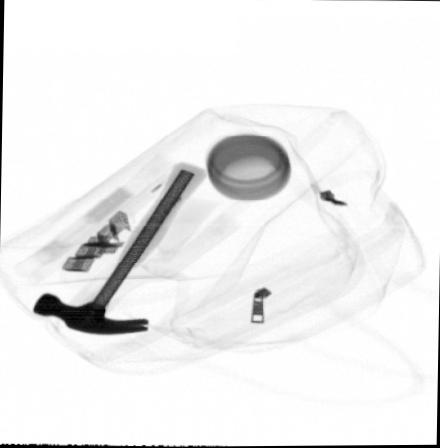Hammer: (33, 161, 208, 336)
